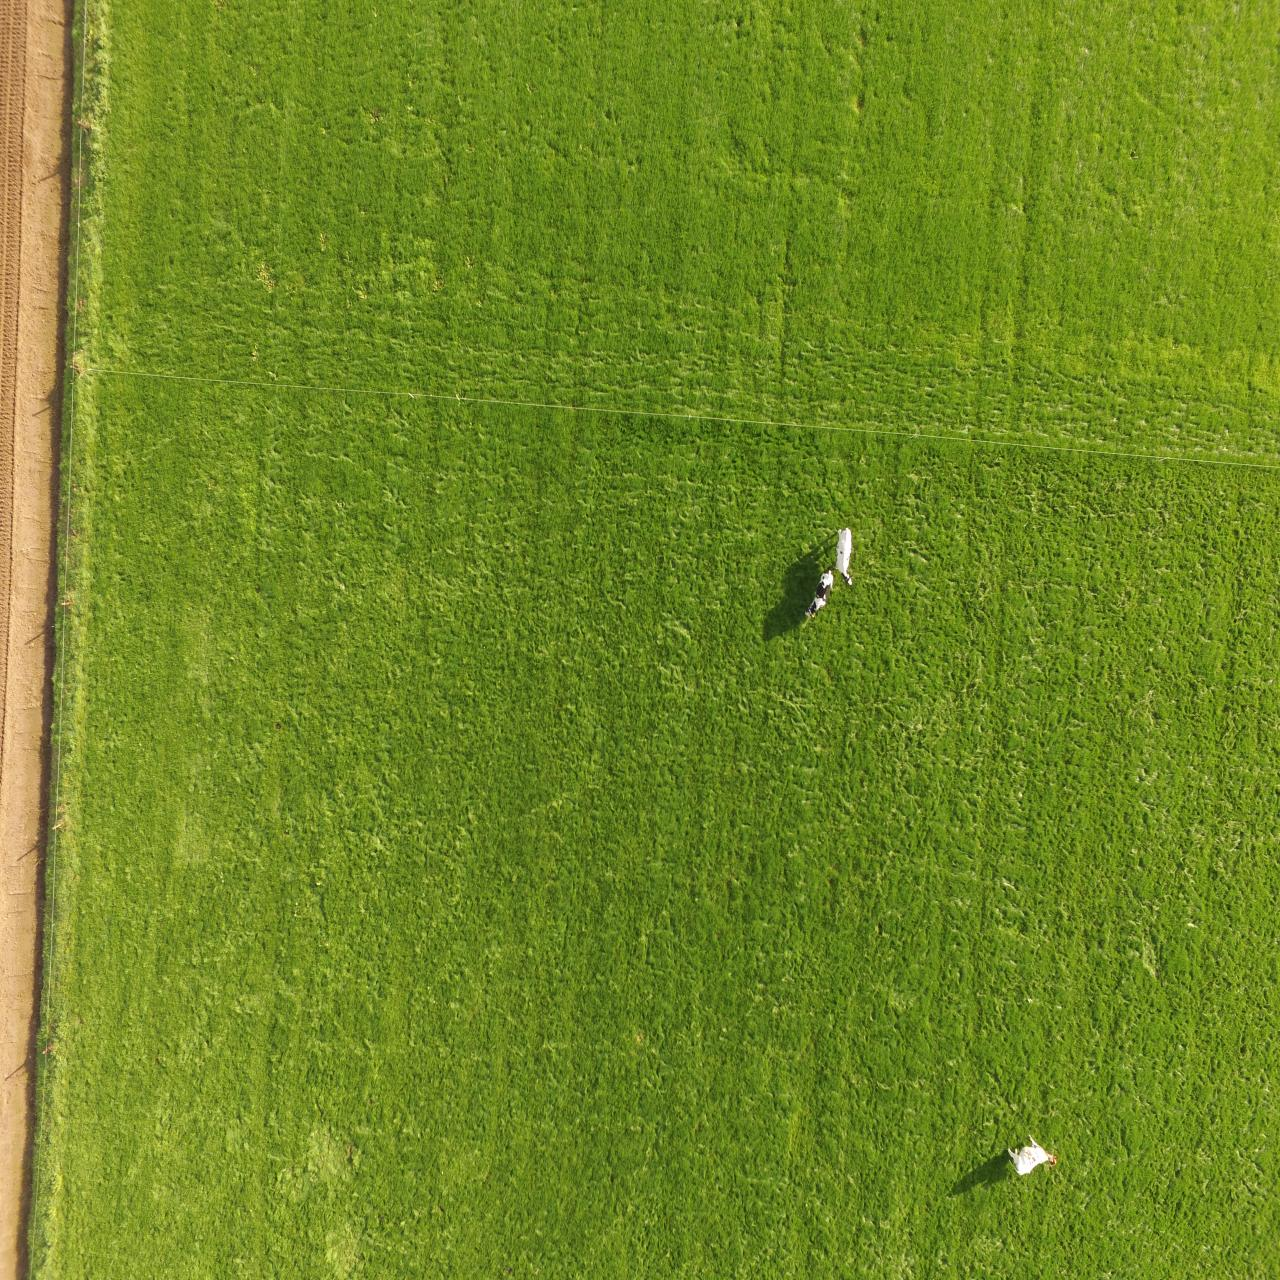cow: (1008, 1131, 1058, 1177), (803, 568, 836, 619), (835, 525, 855, 586)
